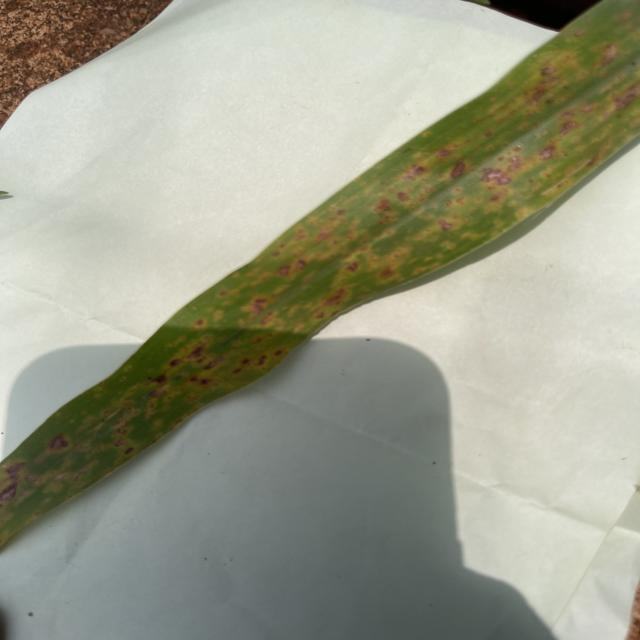millet_rust: (0, 0, 640, 545)
